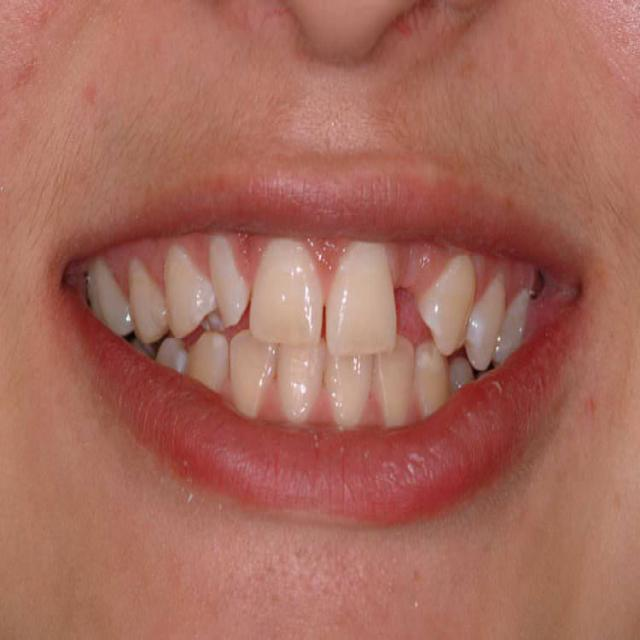tooth: (251, 240, 322, 350), (330, 242, 395, 357), (157, 240, 216, 326), (80, 252, 132, 343), (428, 251, 472, 358), (371, 338, 419, 424), (468, 280, 509, 374), (230, 336, 276, 419), (125, 257, 169, 339), (279, 344, 323, 425), (326, 348, 372, 425), (208, 241, 249, 325), (412, 341, 452, 421), (493, 280, 526, 358), (190, 338, 230, 398), (150, 336, 189, 374), (446, 356, 477, 389)
